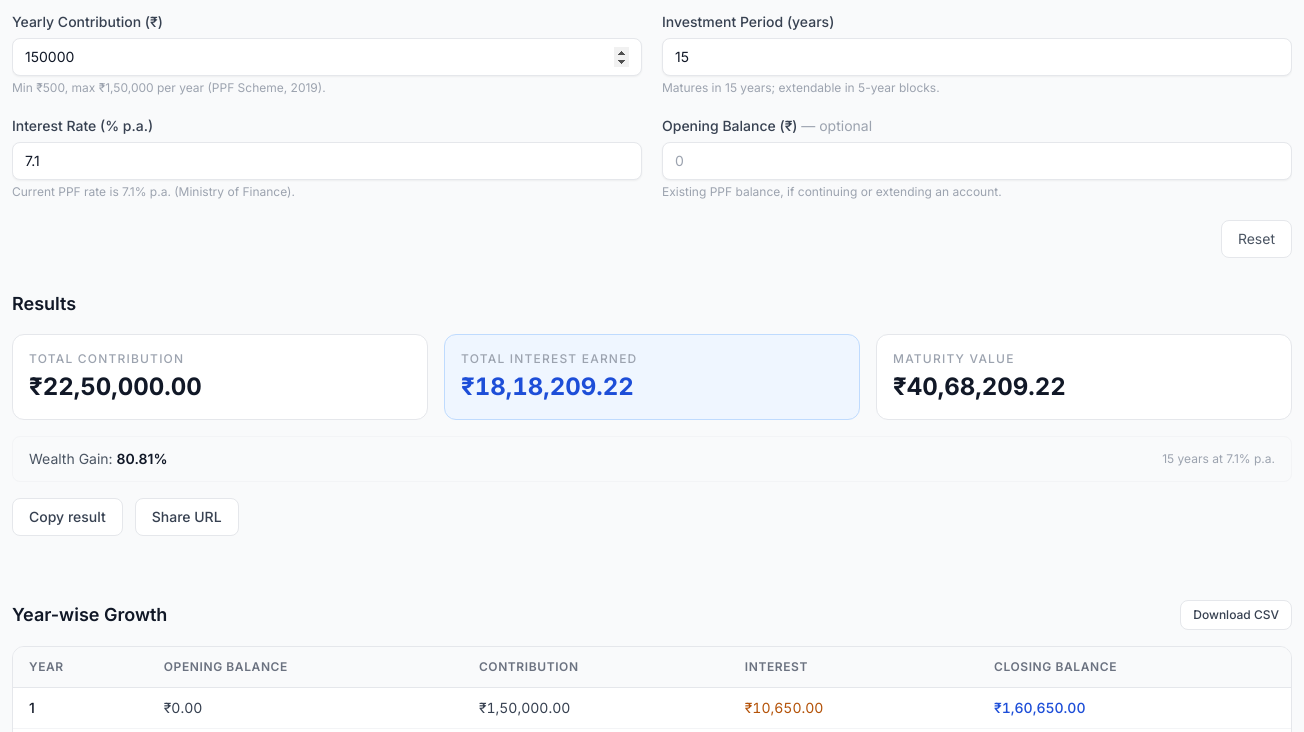
Scenario: PPFCalculator › shows error when contribution exceeds ₹1.5L
Step 1. Replace the text in the number field labelled "Yearly Contribution (₹)" with "200000" → (327, 57), box top-left (12, 38), bottom-right (642, 76)
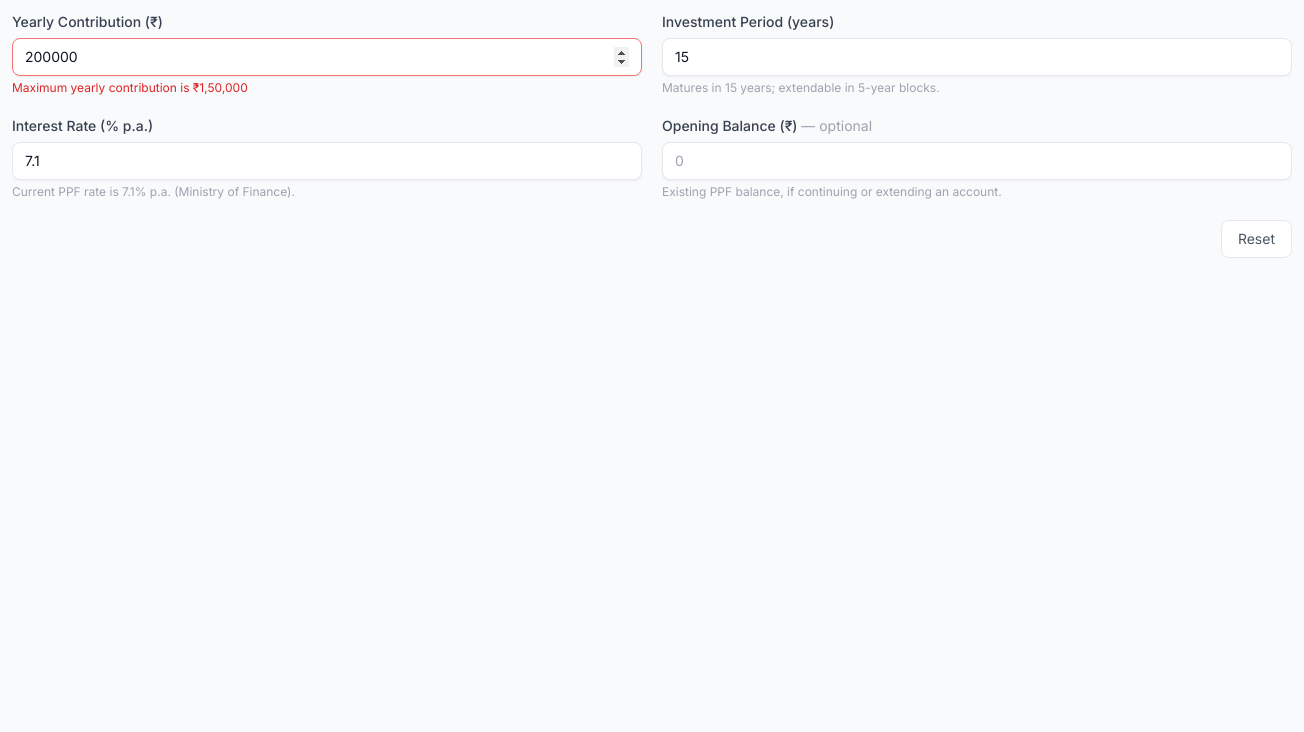
Result: the text "Maximum yearly contribution is ₹1,50,000" is shown at top-left (12, 80), bottom-right (248, 95)
